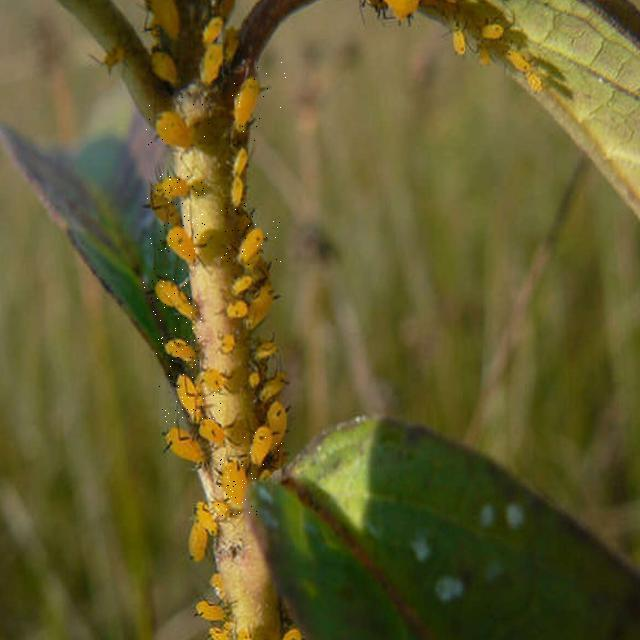aphid: (224, 62, 288, 147), (143, 95, 218, 151), (142, 265, 202, 331), (222, 203, 282, 266), (160, 373, 222, 424), (188, 497, 233, 564), (150, 214, 207, 264), (216, 457, 258, 518), (236, 424, 283, 471), (147, 173, 205, 207), (156, 328, 202, 368), (163, 424, 205, 466), (243, 282, 276, 331), (200, 41, 225, 86), (196, 367, 229, 399), (150, 50, 178, 86), (258, 374, 288, 406), (266, 399, 288, 440), (253, 338, 280, 362), (202, 16, 224, 45), (226, 299, 249, 320), (232, 275, 254, 296), (219, 333, 236, 355), (481, 23, 504, 39)
